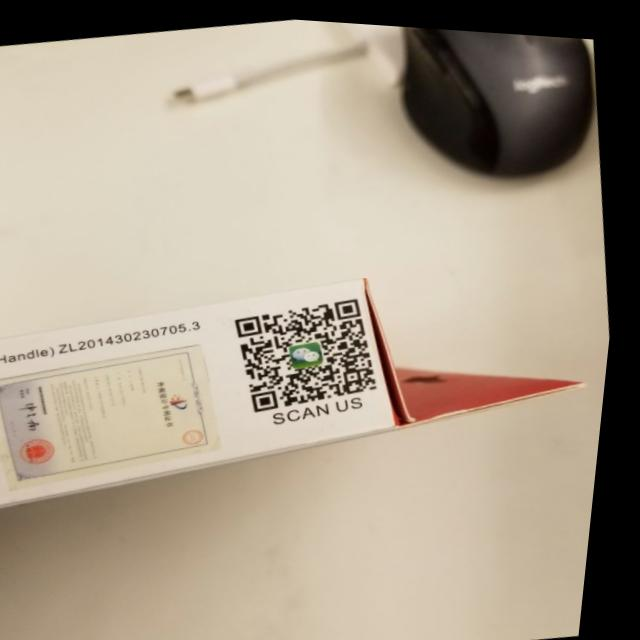QR_CODE: (220, 273, 412, 425)
